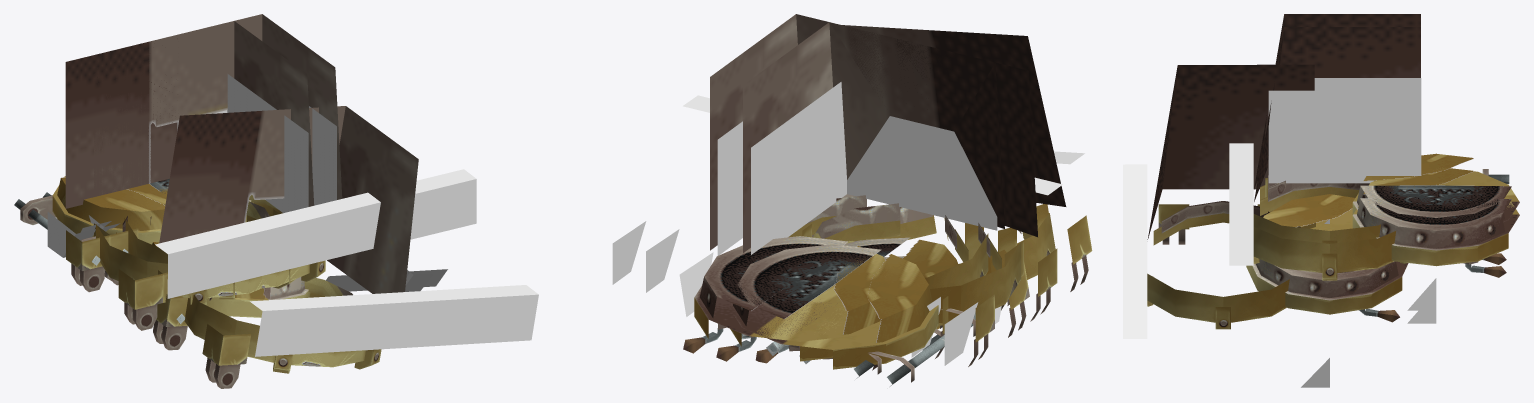
The model's file is model_compound_x4.glb.
3 views of the same model, side by side, from view 1: azimuth 30°, elevation 25°; view 2: azimuth 150°, elevation 25°; view 3: azimuth 270°, elevation 25° (orthographic). The views are drawn at different scales.
Visible parts, largest first — view 1: rsrc.world.tileset.prize_vault.wall.setpieces.model-Variant[ (×11), rsrc.world.tileset.clockworks.wall.setpieces.part_model_fade (×2); view 2: rsrc.world.tileset.prize_vault.wall.setpieces.model-Variant[ (×9), rsrc.world.tileset.clockworks.wall.setpieces.part_model_fade (×2); view 3: rsrc.world.tileset.prize_vault.wall.setpieces.model-Variant[ (×9), rsrc.world.tileset.clockworks.wall.setpieces.part_model_fade (×2).
Boxes of the visible parts, <box> form: rsrc.world.tileset.prize_vault.wall.setpieces.model-Variant[ (×11): <box>14,14,538,388</box>; rsrc.world.tileset.clockworks.wall.setpieces.part_model_fade (×2): <box>213,74,336,212</box>; rsrc.world.tileset.prize_vault.wall.setpieces.model-Variant[ (×9): <box>612,14,1092,386</box>; rsrc.world.tileset.clockworks.wall.setpieces.part_model_fade (×2): <box>717,82,997,255</box>; rsrc.world.tileset.prize_vault.wall.setpieces.model-Variant[ (×9): <box>1123,14,1519,387</box>; rsrc.world.tileset.clockworks.wall.setpieces.part_model_fade (×2): <box>1268,78,1421,183</box>.
Bounding box in the file's own units: 5.85 × 4.41 × 6.53.
4 materials, 1 textured.
